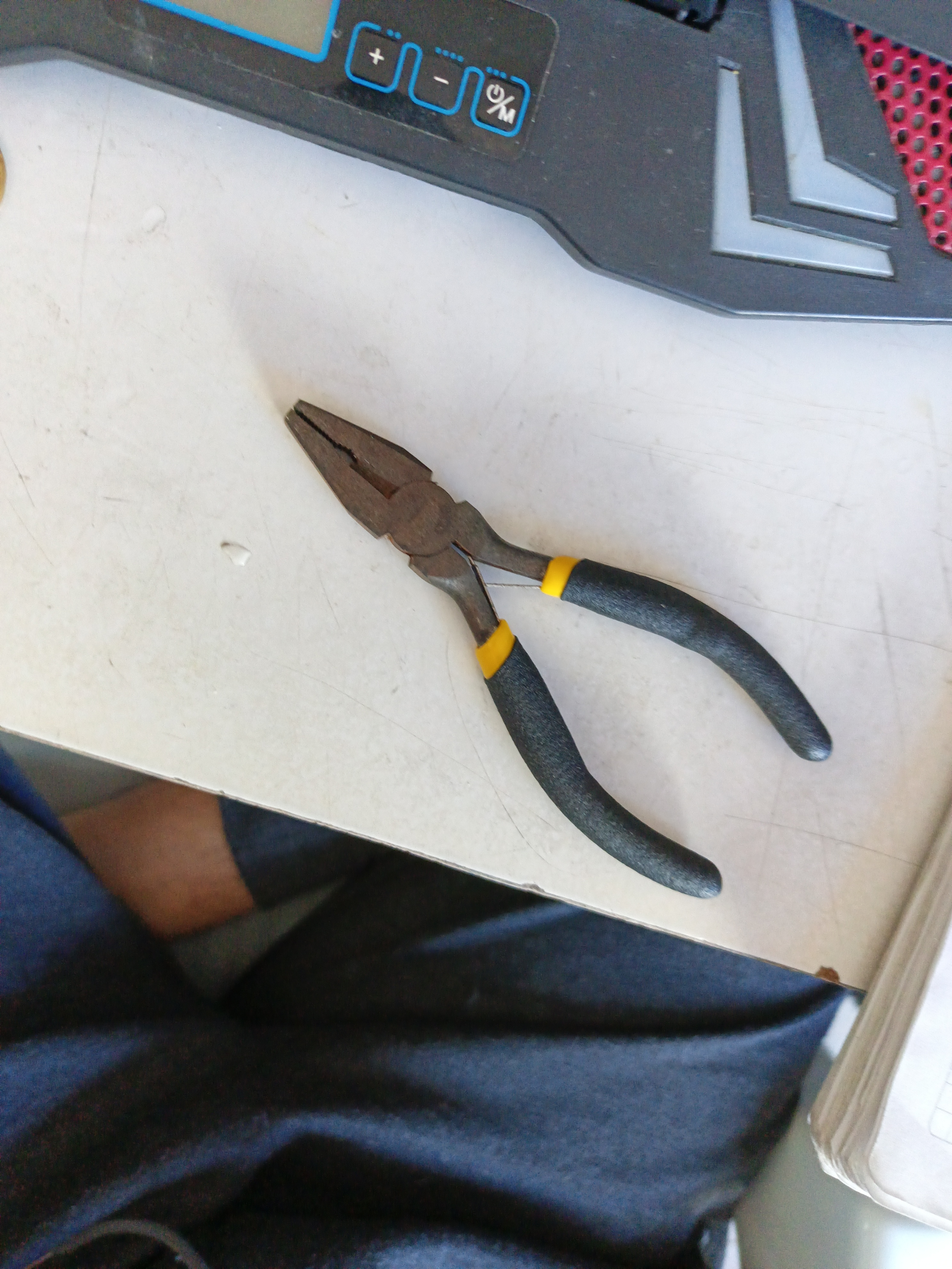Pinzas: (286, 401, 831, 897)
